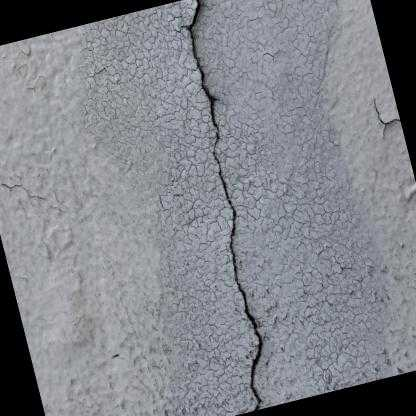crack: (187, 0, 263, 411)
